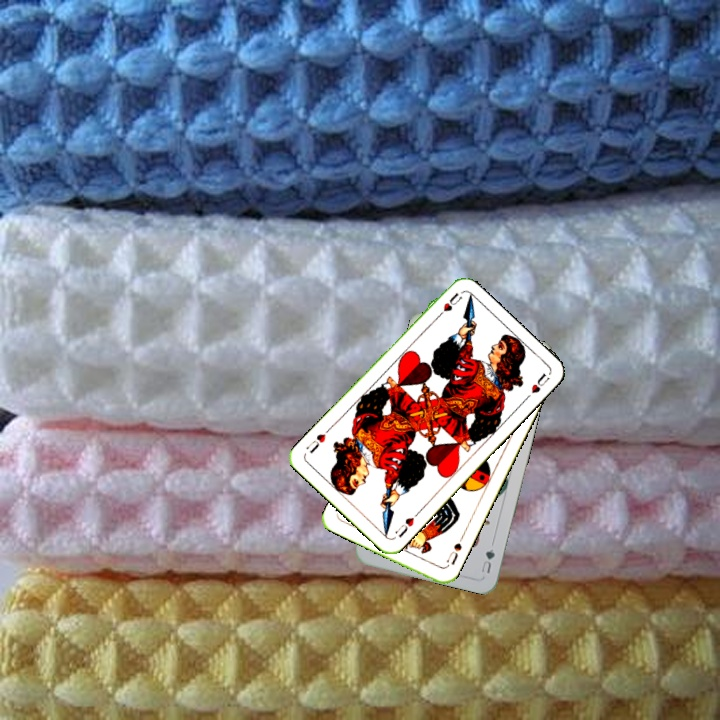GU: (477, 543, 497, 576)
HU: (432, 288, 465, 321), (391, 508, 422, 540)
SU: (442, 532, 466, 570)
